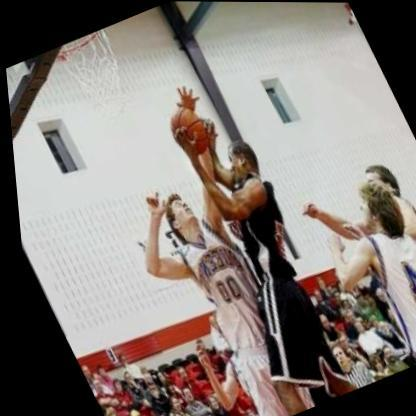basketball: (154, 97, 220, 164)
